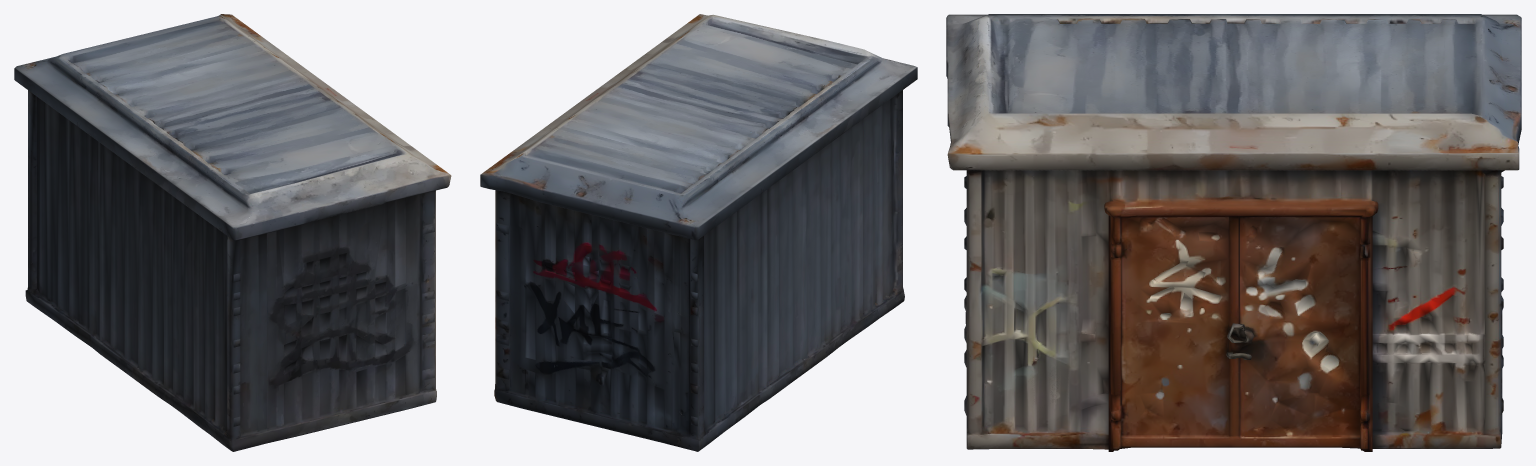
Rendered from garage.glb.
3 views of the same model, side by side, from view 1: azimuth 30°, elevation 25°; view 2: azimuth 150°, elevation 25°; view 3: azimuth 270°, elevation 25° (orthographic). The views are drawn at different scales.
Parts seen in each view (by area): view 1: tripo_node_4f7f3f22-1ffb-4dfd-9a27-41c7a56b100a; view 2: tripo_node_4f7f3f22-1ffb-4dfd-9a27-41c7a56b100a; view 3: tripo_node_4f7f3f22-1ffb-4dfd-9a27-41c7a56b100a.
Part boxes in pixels (box(x1,y1,x2,y2)): tripo_node_4f7f3f22-1ffb-4dfd-9a27-41c7a56b100a: box(14, 14, 451, 451); tripo_node_4f7f3f22-1ffb-4dfd-9a27-41c7a56b100a: box(480, 14, 917, 451); tripo_node_4f7f3f22-1ffb-4dfd-9a27-41c7a56b100a: box(946, 14, 1521, 451).
Bounding box in the file's own units: 0.8658 × 0.9 × 1.45.
Materials: 1 (1 with a texture image).
